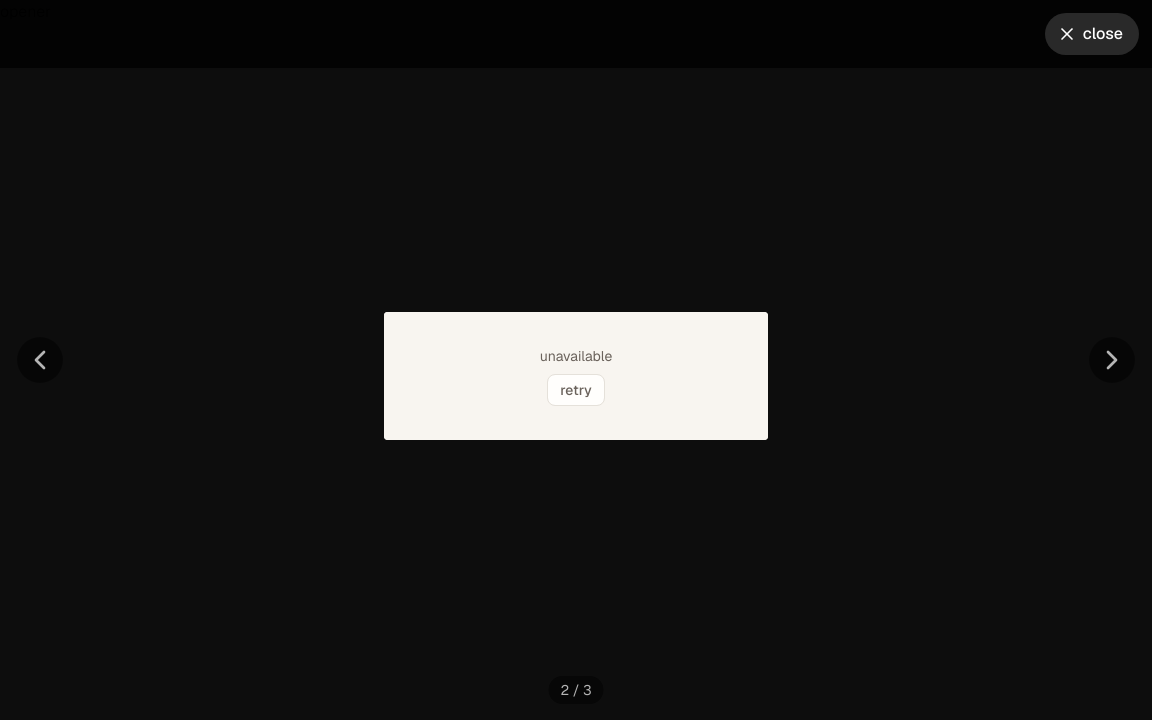
Scenario: MediaLightbox › keeps the viewer open when Retry is clicked after an image fails
Click the button "retry".
click(576, 390)  # box [547, 374, 605, 406]
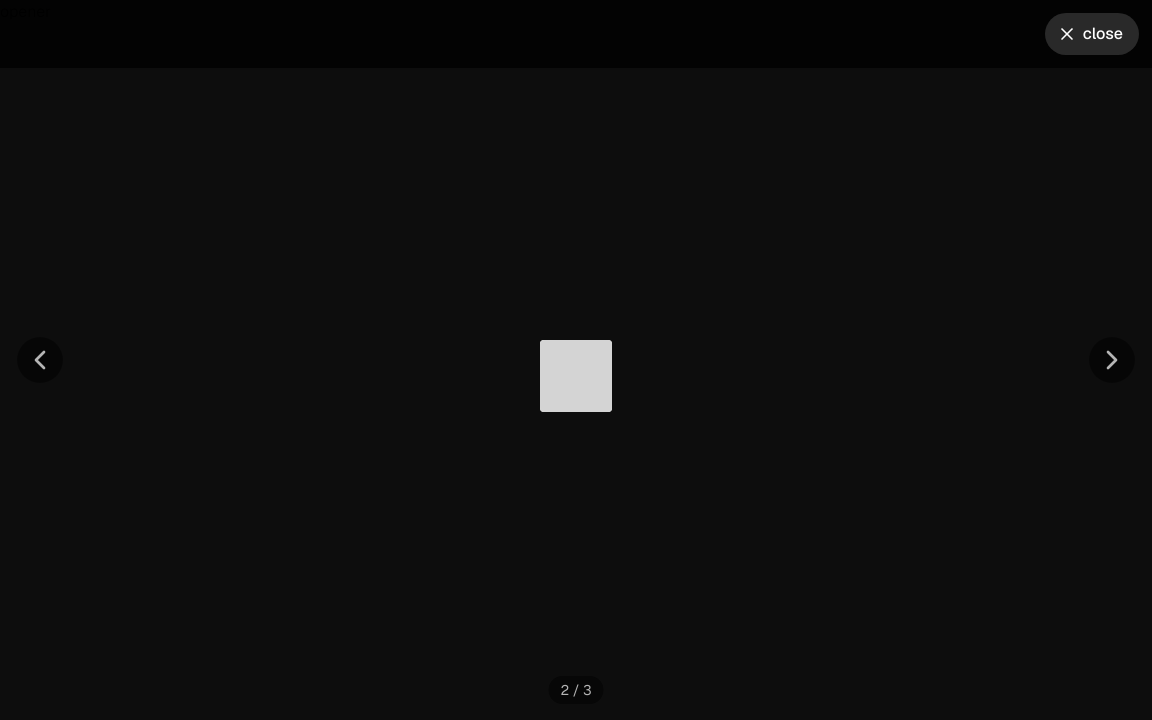
Expected: the message "unavailable retry" is gone
